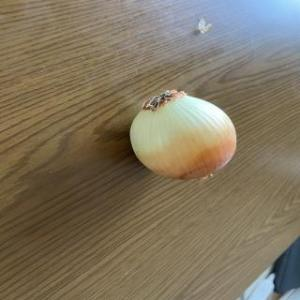onion: (128, 87, 240, 181)
